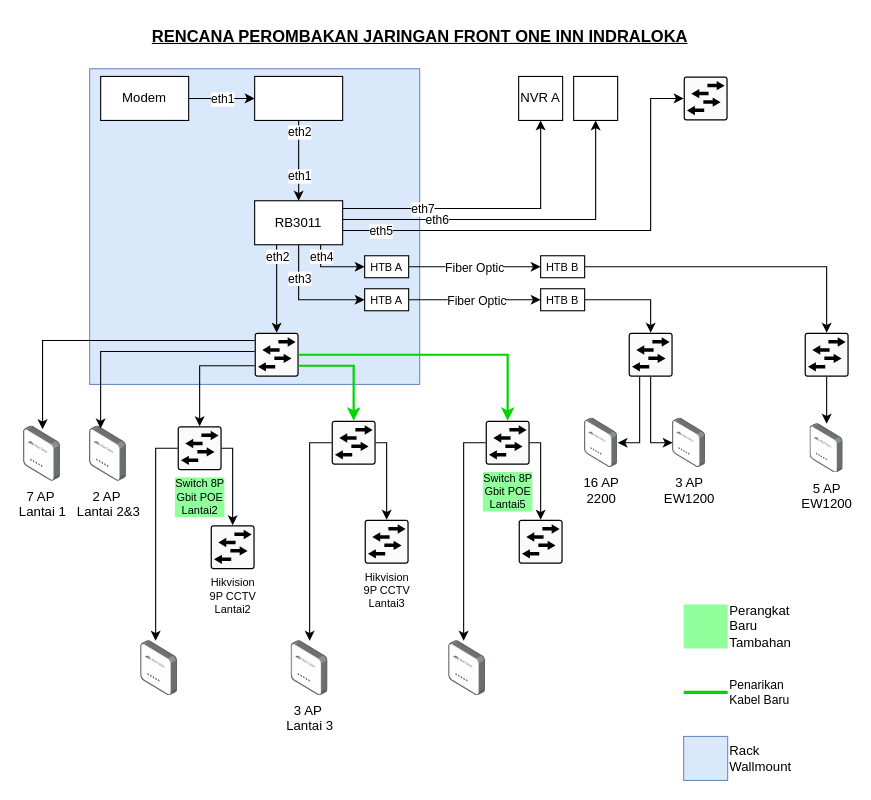
Image size: 871x800. Some labels were removed from this diagram. The centre of each missing label's shape, as x and y in pixels:
"3 AP Lantai 2" goes at pixel 158 667.
"5 AP Lantai 5" goes at pixel 466 667.
"Hikvision 9P CCTV Lantai1" goes at pixel 705 97.
"Hikvision 9P CCTV Lantai5" goes at pixel 540 541.
"NVR B" goes at pixel 595 97.
"RB750Gr3" goes at pixel 298 97.
"Switch 24P Gbit POE Gedung B" goes at pixel 650 354.
"Switch 24P Gbit POE Gedung Baru" goes at pixel 276 354.
"Switch 8P Gbit Gedung D" goes at pixel 826 354.
"Switch 8P Gbit POE Lantai3" goes at pixel 353 442.
